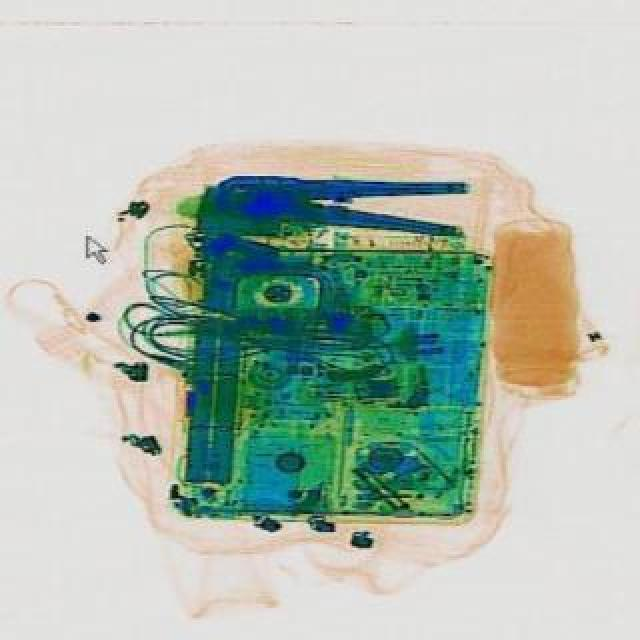wrench: (210, 162, 468, 236)
